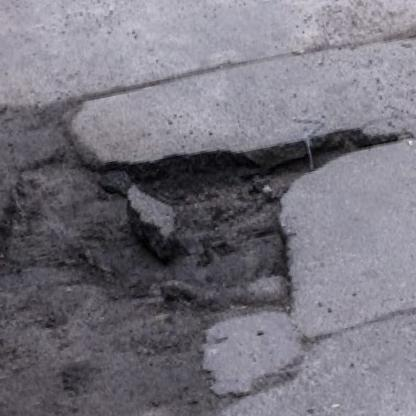pothole: (0, 89, 416, 360)
